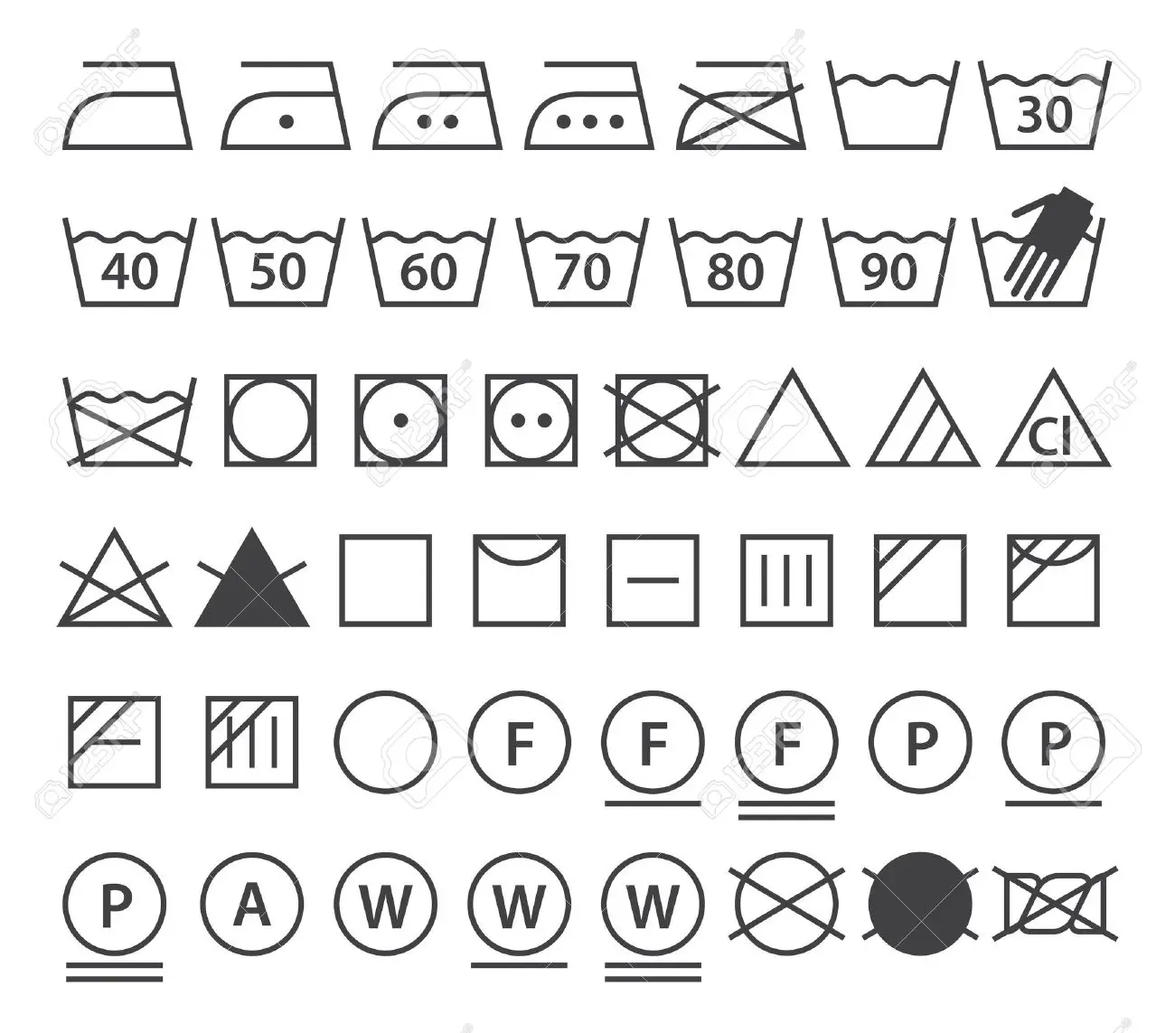ER_bleach: (737, 366, 859, 488)
ER_dry_clean: (326, 683, 444, 809)
ER_dry_clean_chemical: (854, 681, 983, 805)
ER_dry_clean_chemical_mild: (992, 688, 1114, 814)
ER_dry_clean_hydrocarbon: (460, 684, 578, 801)
ER_dry_clean_hydrocarbon_mild: (589, 684, 714, 809)
ER_dry_in_shade: (859, 516, 979, 644)
ER_flat_dry: (592, 521, 708, 638)
ER_flat_dry_in_shade: (54, 684, 174, 797)
ER_hand_wash: (968, 181, 1120, 330)
ER_iron: (50, 46, 198, 172)
ER_iron_high_temp: (520, 49, 658, 163)
ER_iron_low_temp: (213, 43, 357, 169)
ER_iron_medium_temp: (373, 42, 504, 169)
ER_natural_dry: (330, 523, 450, 633)
ER_no_bleach: (189, 521, 324, 644), (52, 522, 184, 646)
ER_no_dry_clean: (721, 850, 848, 972)
ER_no_iron: (672, 53, 818, 170)
ER_no_tumble_dry: (601, 357, 733, 486)
ER_no_wash: (50, 357, 195, 481)
ER_non_chlorine_bleach: (865, 364, 983, 482)
ER_tumble_dry: (215, 360, 328, 479)
ER_tumble_dry_low_heat: (339, 360, 466, 488)
ER_tumble_dry_normal_heat: (473, 360, 595, 486)
ER_wash: (820, 40, 959, 172)
ER_wash_30: (979, 39, 1123, 163)
ER_wash_40: (50, 195, 202, 321)
ER_wash_50: (209, 201, 346, 317)
ER_wash_60: (362, 190, 496, 324)
ER_wash_70: (507, 190, 657, 330)
